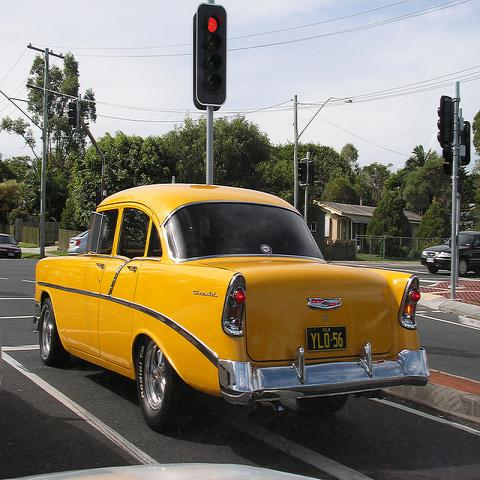car: (34, 179, 426, 428), (420, 231, 480, 277), (0, 234, 22, 259), (67, 229, 88, 253)
